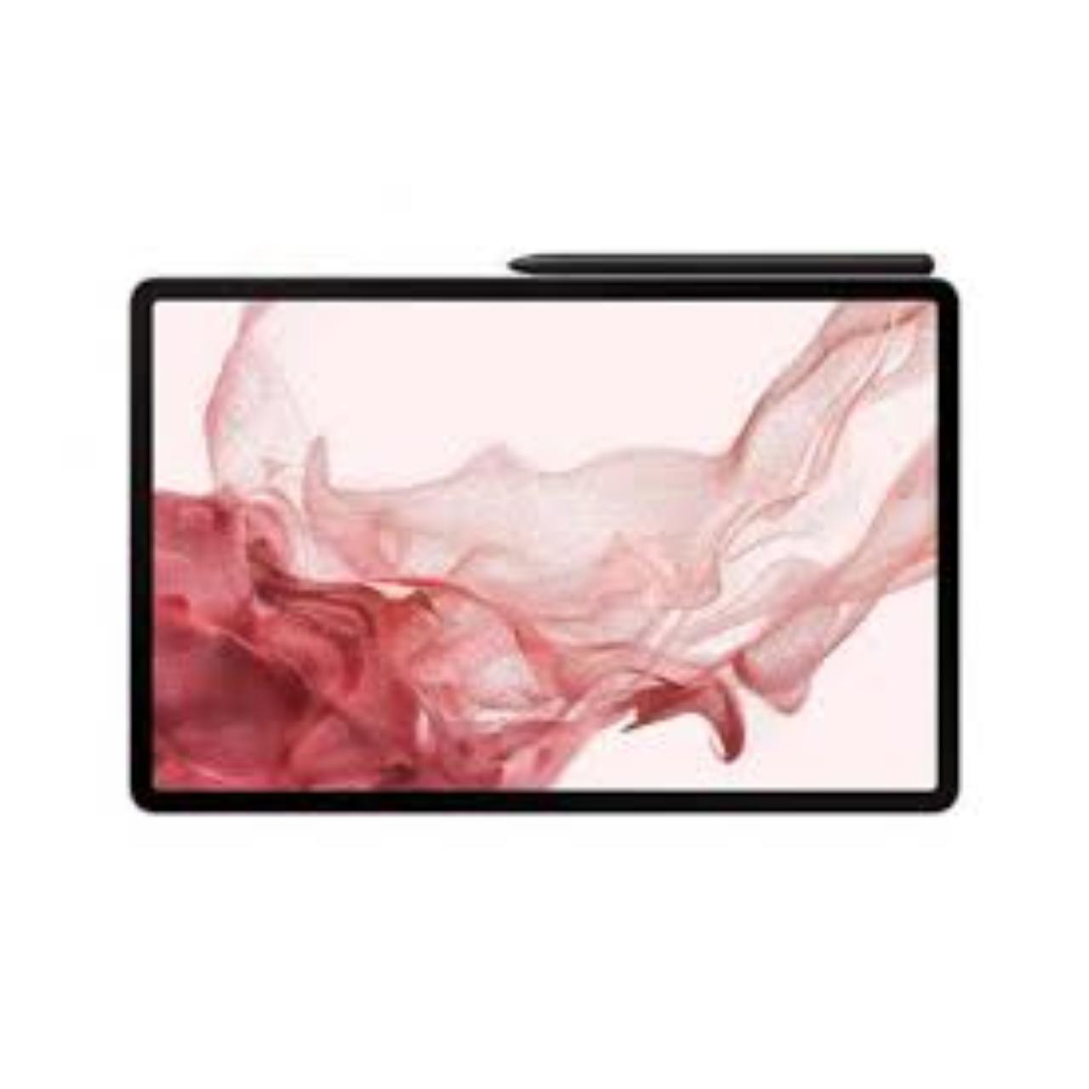Tablet_PC: (110, 238, 967, 834)
